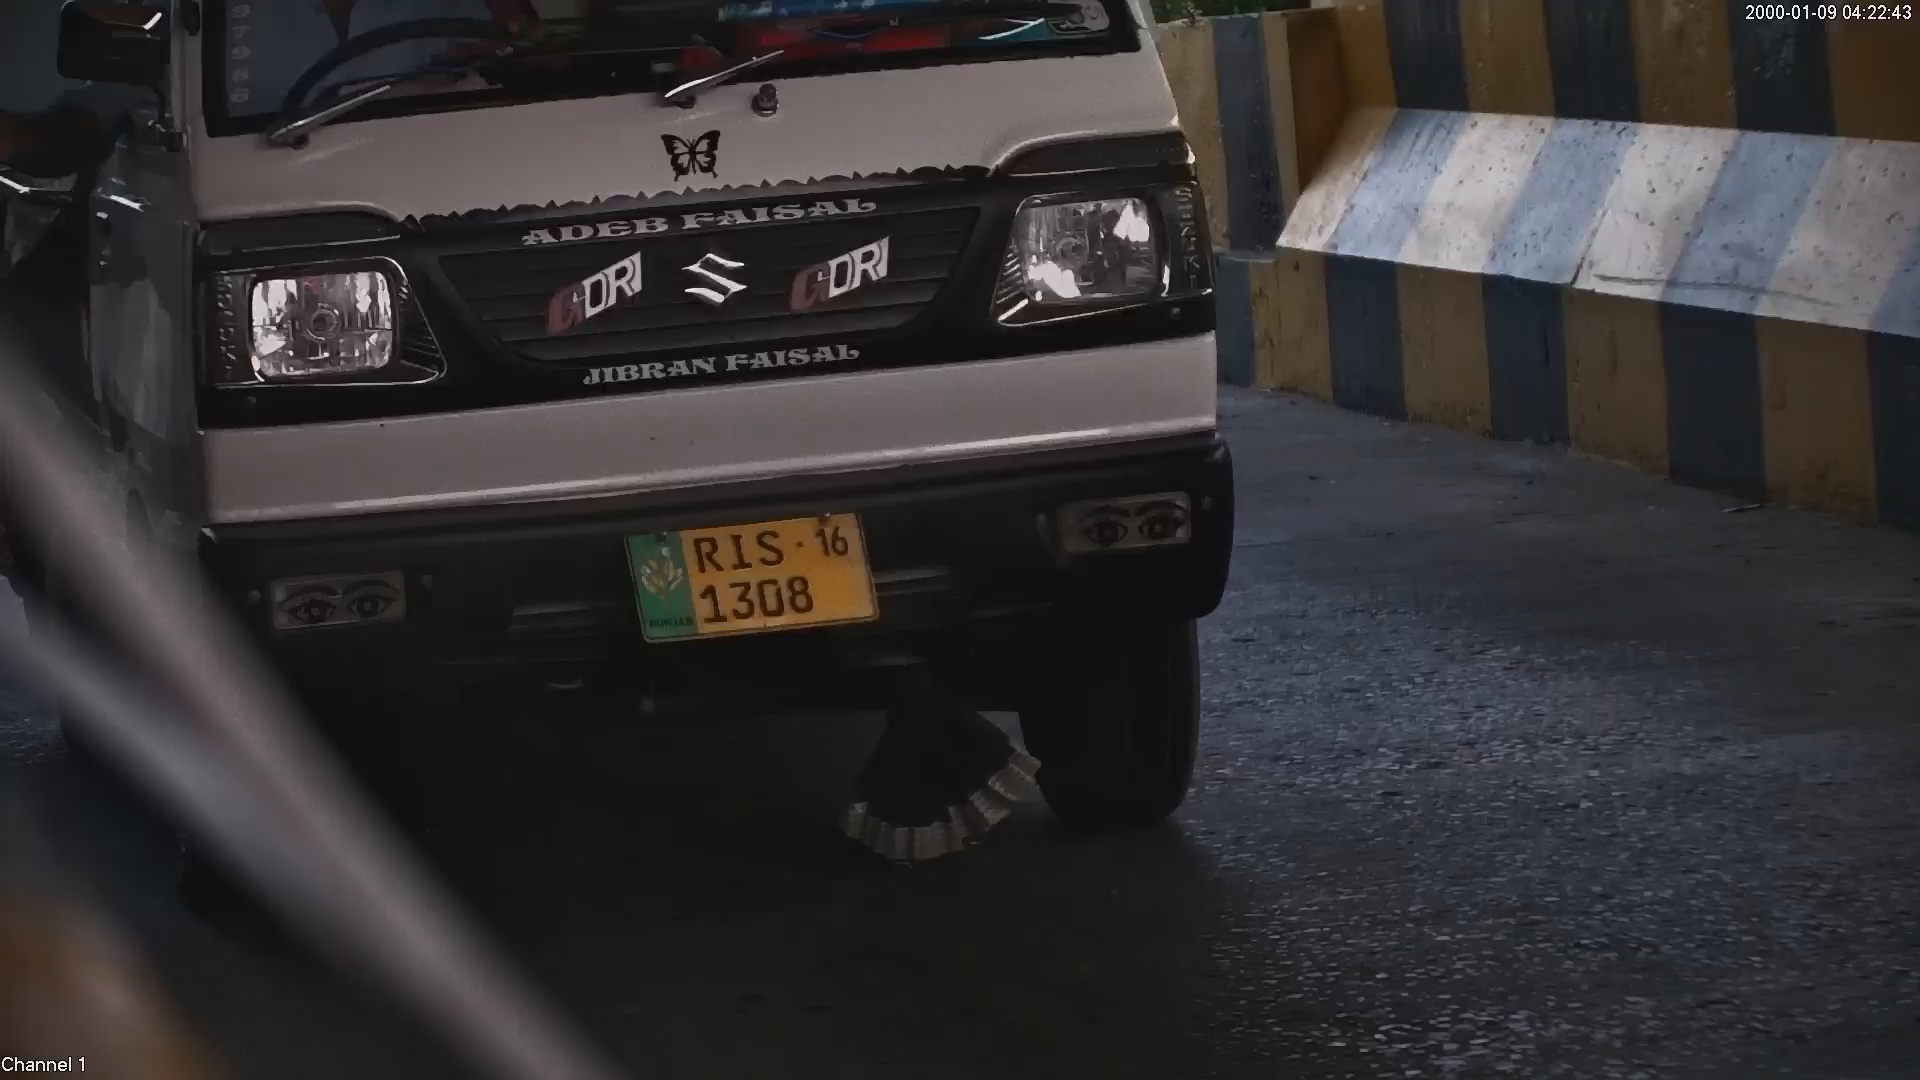Number_Plate: (608, 505, 895, 640)
Undefined: (506, 196, 941, 383), (187, 238, 458, 407), (978, 159, 1200, 336), (1037, 470, 1193, 559), (260, 562, 417, 636)
